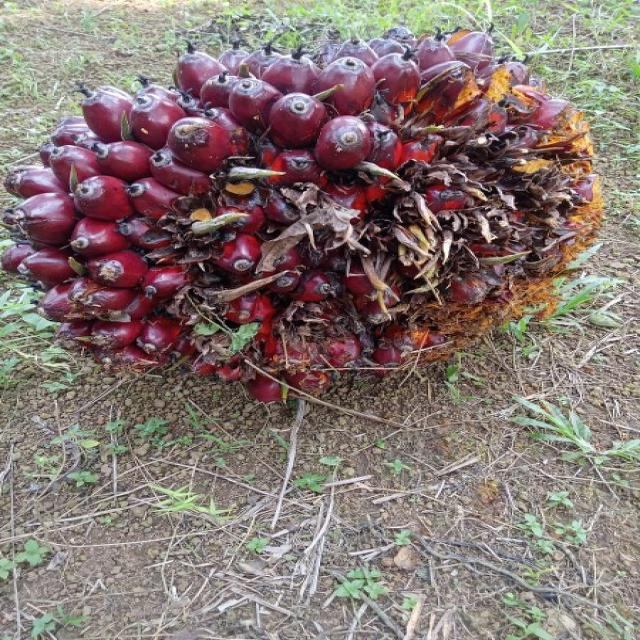fraksi 1: (0, 32, 640, 419)
